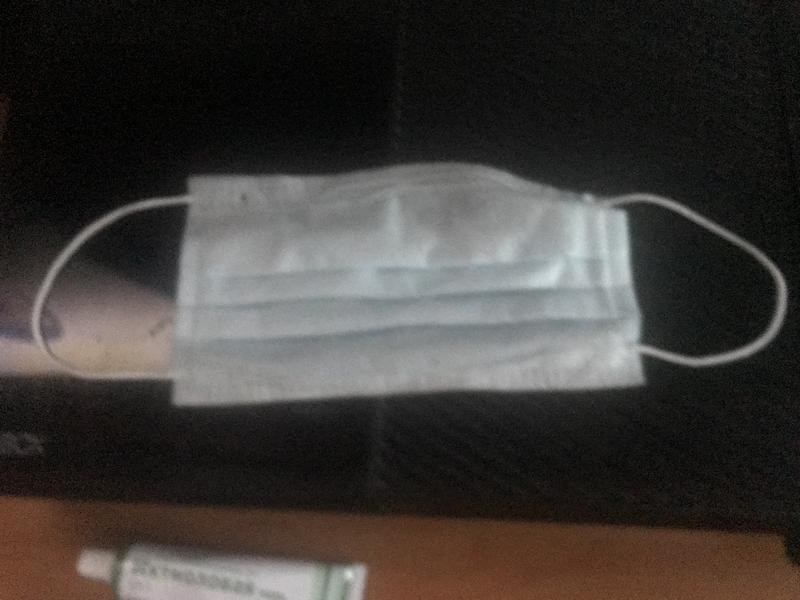medical_mask: (33, 166, 788, 405)
